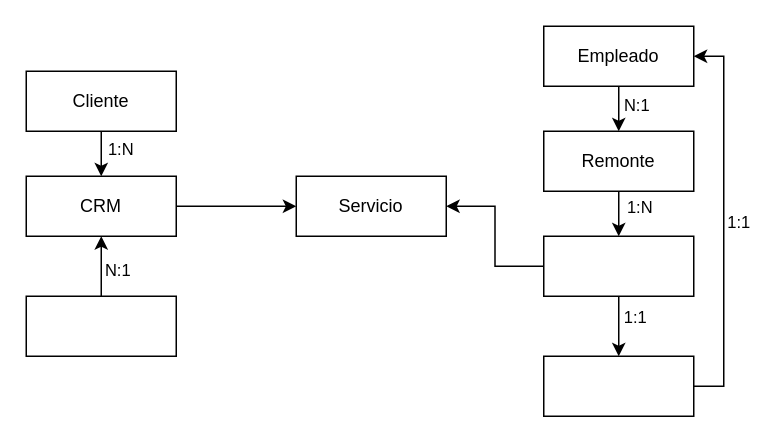
Image size: 776x443. Some labels were removed from this diagram. The shapes that lost their labels are listed below. From the top down, each one's box as (x1, y1, x2, y2) in pixels, then its label:
(542, 235, 694, 296): IoT
(25, 295, 176, 356): Gestor
(542, 355, 694, 416): Orden mantenimiento
